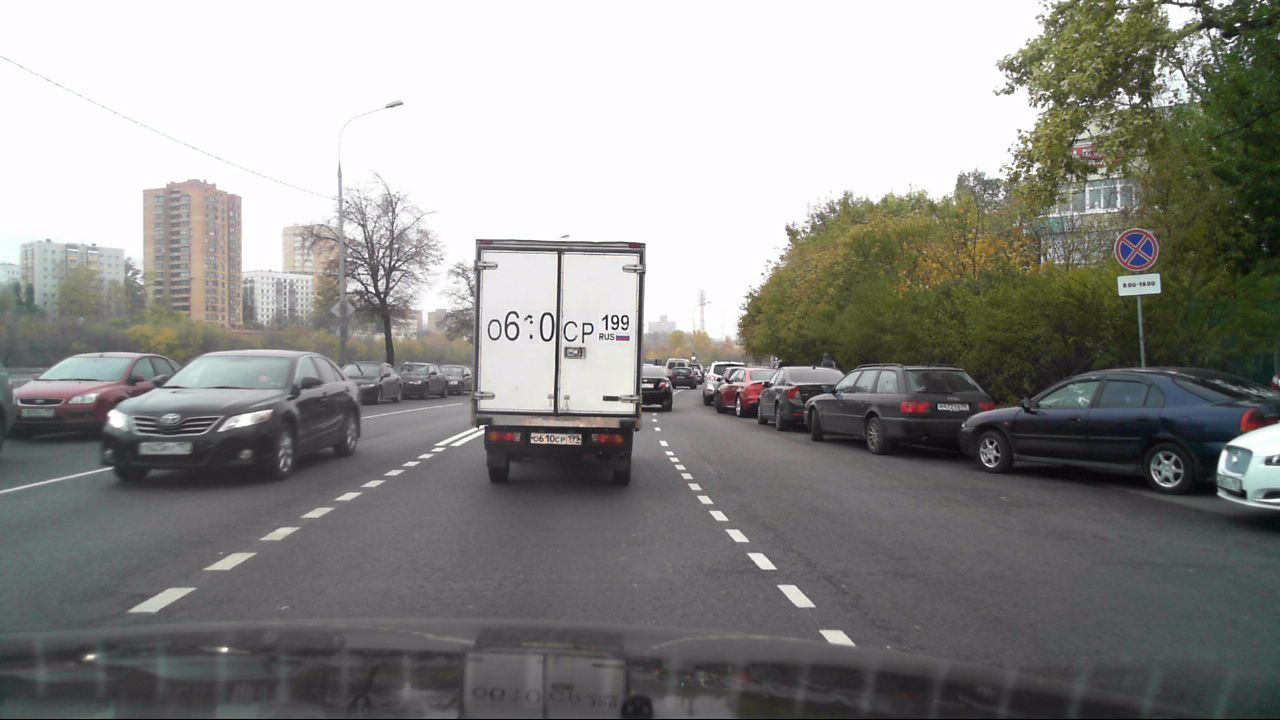No Parking: (1114, 227, 1160, 270)
